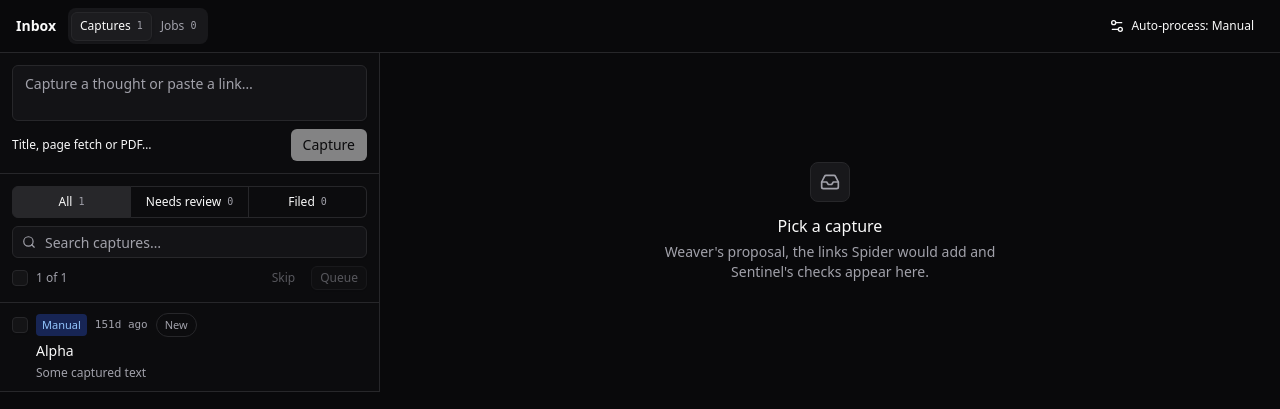
Scenario: InboxView — bulk actions › queues selected captures through the durable jobs API
What coordinates should you click on to do the following:
click the checkbox named "Select all"
I would click on:
 (20, 278)
Its box is top-left (12, 270), bottom-right (28, 286).
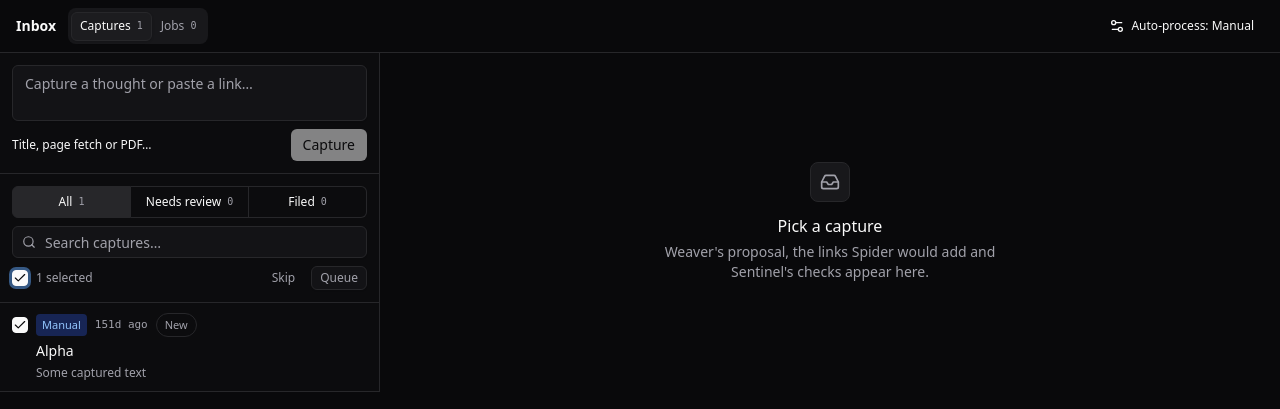
What coordinates should you click on to do the following:
click the button "Queue"
I would click on:
 (339, 278)
Its box is top-left (311, 266), bottom-right (367, 290).
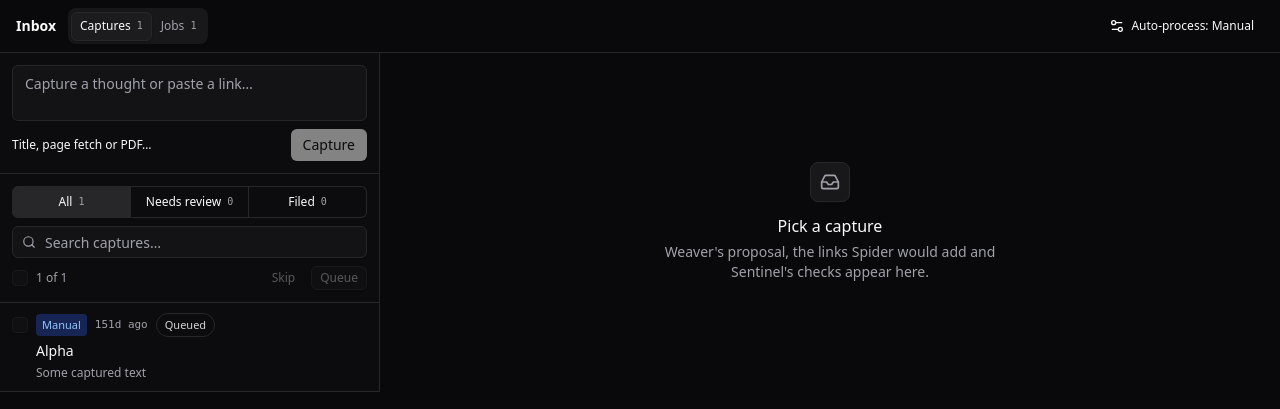
Check: the text "Queued" is shown, box top-left (156, 313), bottom-right (215, 337)
